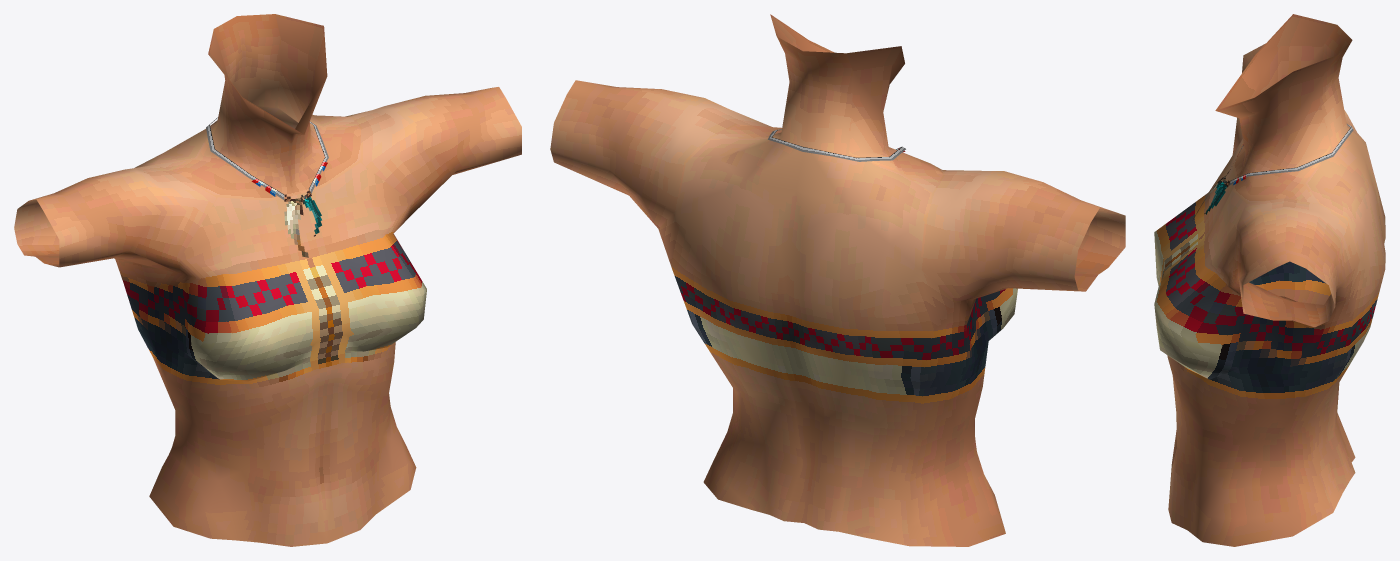
File: f_plate219.obj
3 views of the same model, side by side, from view 1: azimuth 30°, elevation 25°; view 2: azimuth 150°, elevation 25°; view 3: azimuth 270°, elevation 25° (orthographic). The views are drawn at different scales.
Visible parts, largest first — view 1: mesh00; view 2: mesh00; view 3: mesh00.
Boxes of the visible parts, left/top/right/bottom form: mesh00: left=14, top=14, right=521, bottom=546; mesh00: left=550, top=14, right=1125, bottom=546; mesh00: left=1154, top=14, right=1385, bottom=546.
Size of the model in its own units: 61.81 by 58.89 by 26.3.
1 material, 1 textured.
